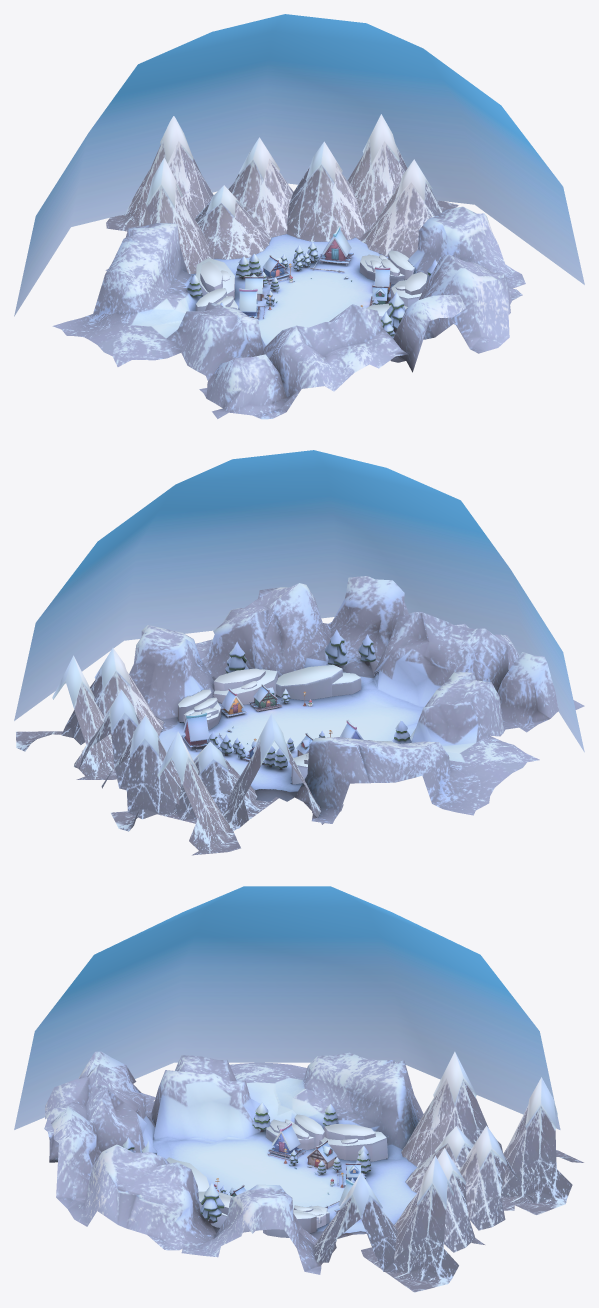
Rendered from snow.glb.
3 renders of one model, top to bottom at view 1: azimuth 30°, elevation 25°; view 2: azimuth 150°, elevation 25°; view 3: azimuth 270°, elevation 25°, orthographic. The views are drawn at different scales.
Visible parts, largest first — view 1: SkyDome, Boulder06.002, Ground01.001, Boulder09.002, Boulder07.002, Boulder11.002, Mountain01b.004, Boulder12.002, Boulder08.002, Mountain01b.005, Mountain01a.004, Mountain01a.006 (+8 smaller); view 2: SkyDome, Boulder06.002, Boulder09.002, Ground01.001, Boulder11.002, Boulder07.002, Boulder12.002, Boulder10.002, Mountain01b.006, Mountain01a.004, Boulder08.002, Mountain01a.006 (+11 smaller); view 3: SkyDome, Ground01.001, Boulder06.002, Boulder11.002, Boulder07.002, Boulder09.002, Mountain01a.004, Mountain01a.006, Boulder12.002, Mountain01a.005, Mountain01b.005, Mountain01b.006 (+10 smaller).
Part boxes in pixels (x1,y1,x2,y2): SkyDome: (14, 14, 584, 316); Boulder06.002: (52, 223, 202, 345); Ground01.001: (193, 234, 390, 345); Boulder09.002: (263, 304, 408, 411); Boulder07.002: (98, 302, 265, 380); Boulder11.002: (419, 254, 522, 351); Mountain01b.004: (286, 141, 366, 241); Boulder12.002: (382, 206, 525, 288); Boulder08.002: (199, 354, 286, 419); Mountain01b.005: (358, 159, 441, 257); Mountain01a.004: (106, 116, 213, 231); Mountain01a.006: (347, 114, 458, 230); SkyDome: (14, 450, 584, 752); Boulder06.002: (285, 737, 511, 823); Boulder09.002: (358, 612, 519, 710); Ground01.001: (159, 694, 421, 801); Boulder11.002: (195, 583, 331, 696); Boulder07.002: (407, 671, 539, 772); Boulder12.002: (129, 625, 223, 730); Boulder10.002: (323, 576, 408, 696); Mountain01b.006: (101, 715, 180, 819); Mountain01a.004: (111, 731, 240, 855); Boulder08.002: (497, 652, 584, 732); Mountain01a.006: (16, 655, 116, 779); SkyDome: (14, 886, 560, 1129); Ground01.001: (167, 1110, 417, 1234); Boulder06.002: (273, 1052, 423, 1159); Boulder11.002: (68, 1144, 219, 1250); Boulder07.002: (151, 1055, 278, 1143); Boulder09.002: (44, 1064, 177, 1162); Mountain01a.004: (501, 1077, 583, 1215); Mountain01a.006: (361, 1155, 484, 1292); Boulder12.002: (181, 1184, 352, 1274); Mountain01a.005: (401, 1051, 503, 1166); Mountain01b.005: (313, 1172, 398, 1272); Mountain01b.006: (459, 1125, 535, 1230).
Bounding box in the file's own units: 122 × 67.83 × 127.
2 materials, 2 textured.
